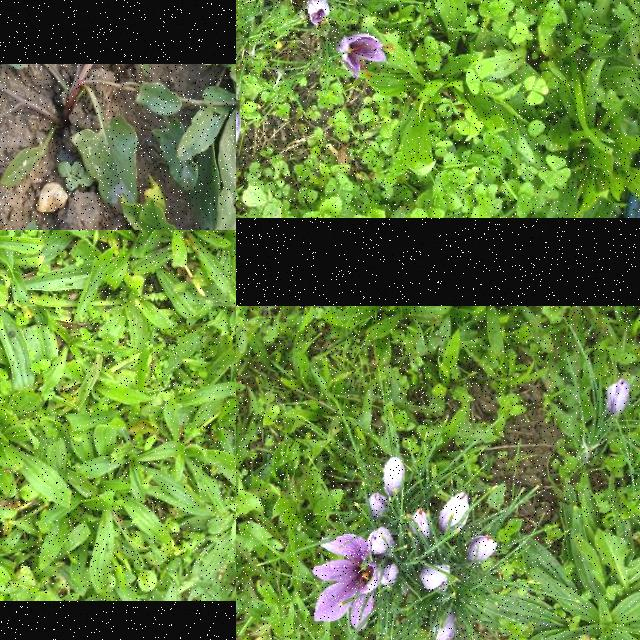flower: (312, 534, 380, 632), (339, 34, 397, 80), (438, 492, 470, 536), (466, 535, 498, 565), (605, 378, 631, 414), (366, 527, 396, 557), (419, 565, 451, 593), (384, 457, 406, 495), (432, 609, 457, 640), (411, 509, 433, 541), (368, 493, 389, 521), (308, 0, 330, 25), (380, 563, 400, 589), (236, 103, 242, 156)
